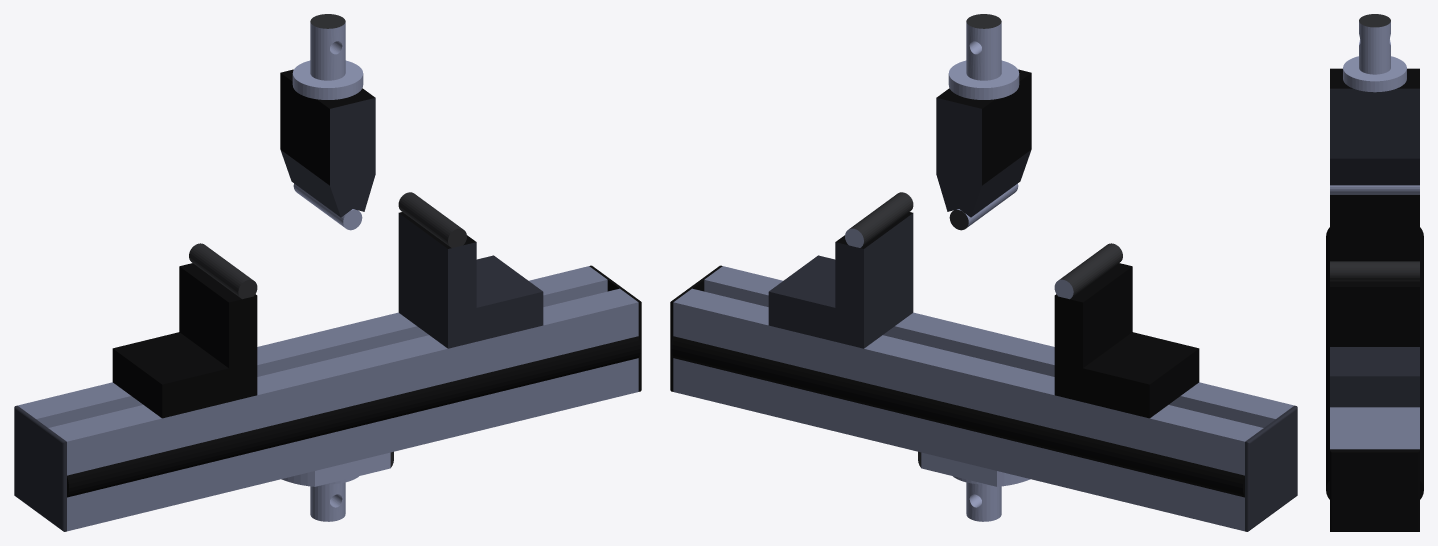
The model's file is 3 Point Bend Test Empty Only.gltf.
3 views of the same model, side by side, from view 1: azimuth 30°, elevation 25°; view 2: azimuth 150°, elevation 25°; view 3: azimuth 270°, elevation 25° (orthographic). The views are drawn at different scales.
Parts seen in each view (by area): view 1: Shape_IndexedFaceSet, Shape_IndexedFaceSet.007, Shape_IndexedFaceSet.002, Shape_IndexedFaceSet.005, Shape_IndexedFaceSet.011, Shape_IndexedFaceSet.003, Shape_IndexedFaceSet.012, Shape_IndexedFaceSet.009, Shape_IndexedFaceSet.006, Shape_IndexedFaceSet.008, Shape_IndexedFaceSet.010; view 2: Shape_IndexedFaceSet, Shape_IndexedFaceSet.007, Shape_IndexedFaceSet.001, Shape_IndexedFaceSet.005, Shape_IndexedFaceSet.011, Shape_IndexedFaceSet.003, Shape_IndexedFaceSet.012, Shape_IndexedFaceSet.009, Shape_IndexedFaceSet.006, Shape_IndexedFaceSet.008, Shape_IndexedFaceSet.010; view 3: Shape_IndexedFaceSet.005, Shape_IndexedFaceSet.011, Shape_IndexedFaceSet.004, Shape_IndexedFaceSet.007, Shape_IndexedFaceSet, Shape_IndexedFaceSet.012, Shape_IndexedFaceSet.006, Shape_IndexedFaceSet.001, Shape_IndexedFaceSet.002, Shape_IndexedFaceSet.010.
Part boxes in pixels (x1,y1,x2,y2): Shape_IndexedFaceSet: [18, 266, 638, 531]; Shape_IndexedFaceSet.007: [112, 263, 257, 418]; Shape_IndexedFaceSet.002: [67, 336, 640, 497]; Shape_IndexedFaceSet.005: [398, 212, 543, 348]; Shape_IndexedFaceSet.011: [280, 69, 375, 217]; Shape_IndexedFaceSet.003: [14, 405, 66, 531]; Shape_IndexedFaceSet.012: [292, 14, 363, 99]; Shape_IndexedFaceSet.009: [281, 451, 393, 521]; Shape_IndexedFaceSet.006: [398, 192, 466, 247]; Shape_IndexedFaceSet.008: [189, 243, 257, 299]; Shape_IndexedFaceSet.010: [293, 183, 362, 230]; Shape_IndexedFaceSet: [673, 266, 1293, 531]; Shape_IndexedFaceSet.007: [1054, 263, 1199, 418]; Shape_IndexedFaceSet.001: [671, 336, 1244, 497]; Shape_IndexedFaceSet.005: [768, 212, 913, 348]; Shape_IndexedFaceSet.011: [936, 69, 1031, 217]; Shape_IndexedFaceSet.003: [1245, 405, 1297, 531]; Shape_IndexedFaceSet.012: [948, 14, 1019, 99]; Shape_IndexedFaceSet.009: [918, 451, 1030, 521]; Shape_IndexedFaceSet.006: [845, 192, 913, 247]; Shape_IndexedFaceSet.008: [1054, 243, 1122, 299]; Shape_IndexedFaceSet.010: [949, 183, 1018, 230]; Shape_IndexedFaceSet.005: [1330, 281, 1419, 407]; Shape_IndexedFaceSet.011: [1330, 68, 1419, 185]; Shape_IndexedFaceSet.004: [1330, 449, 1419, 531]; Shape_IndexedFaceSet.007: [1330, 194, 1419, 261]; Shape_IndexedFaceSet: [1330, 407, 1419, 449]; Shape_IndexedFaceSet.012: [1343, 14, 1406, 92]; Shape_IndexedFaceSet.006: [1330, 261, 1419, 281]; Shape_IndexedFaceSet.001: [1420, 227, 1423, 499]; Shape_IndexedFaceSet.002: [1326, 227, 1329, 499]; Shape_IndexedFaceSet.010: [1330, 185, 1419, 194].
Bounding box in the file's own units: 0.304 × 0.2472 × 0.049.
